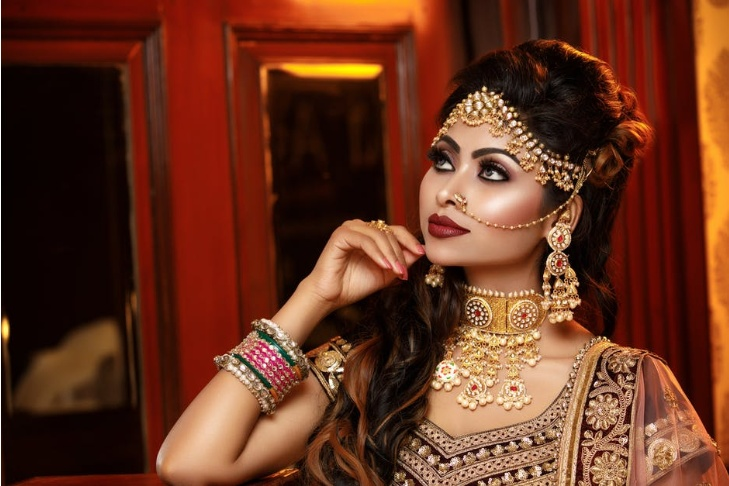face: (419, 104, 539, 267)
